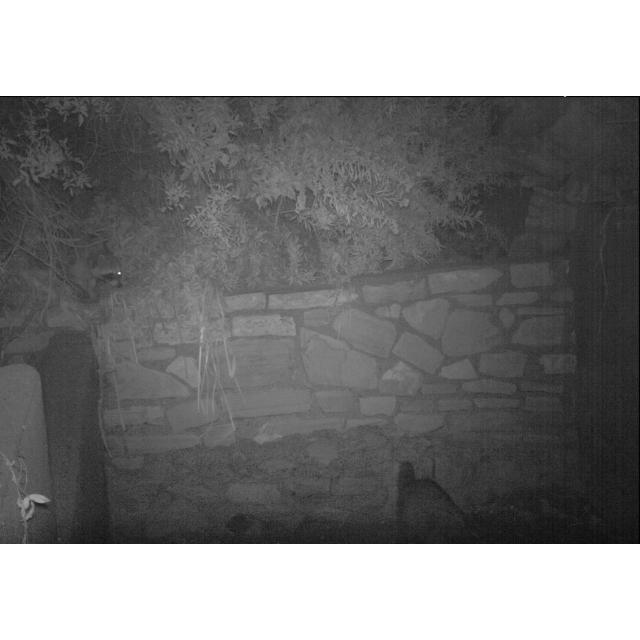animals: (24, 243, 124, 301)
